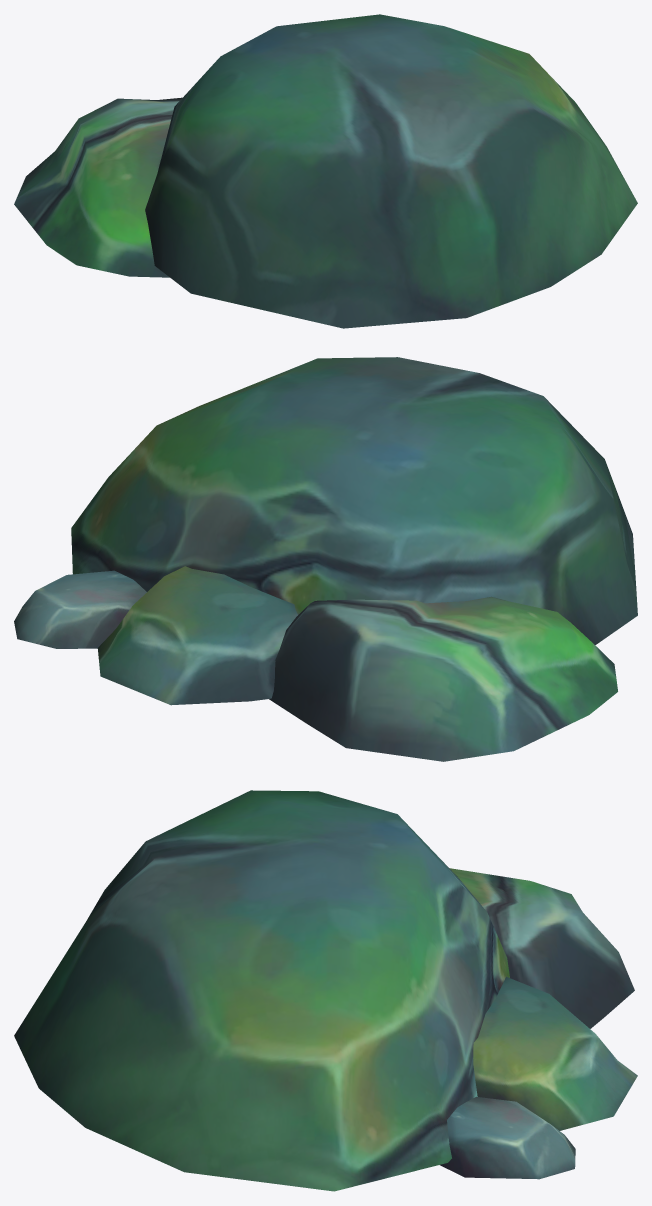
The model's file is ROK0110033.fbx.
3 views of the same model, one above another, from view 1: azimuth 30°, elevation 25°; view 2: azimuth 150°, elevation 25°; view 3: azimuth 270°, elevation 25° (orthographic). The views are drawn at different scales.
Parts seen in each view (by area): view 1: smROK0110033; view 2: smROK0110033; view 3: smROK0110033.
Boxes of the visible parts, box(x1,y1,x2,y2) form: smROK0110033: box(14, 14, 637, 328); smROK0110033: box(14, 357, 637, 761); smROK0110033: box(14, 790, 637, 1191).
Size of the model in its own units: 175 by 59.03 by 162.
Materials: 1 (1 with a texture image).
